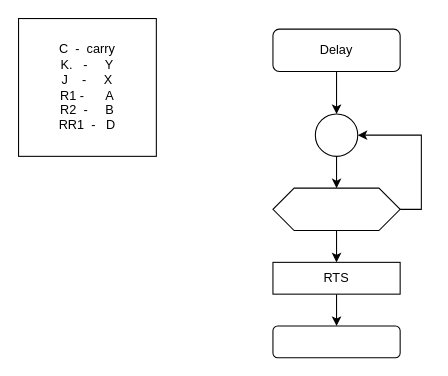
Image size: 448x376. Some labels were removed from this diagram. The shapes that lost their labels are listed below. From the top down, each one's centre as x and y in pixels, then its label:
At point 336,209: "Cont_Delay".
At point 336,341: "RETURN".
